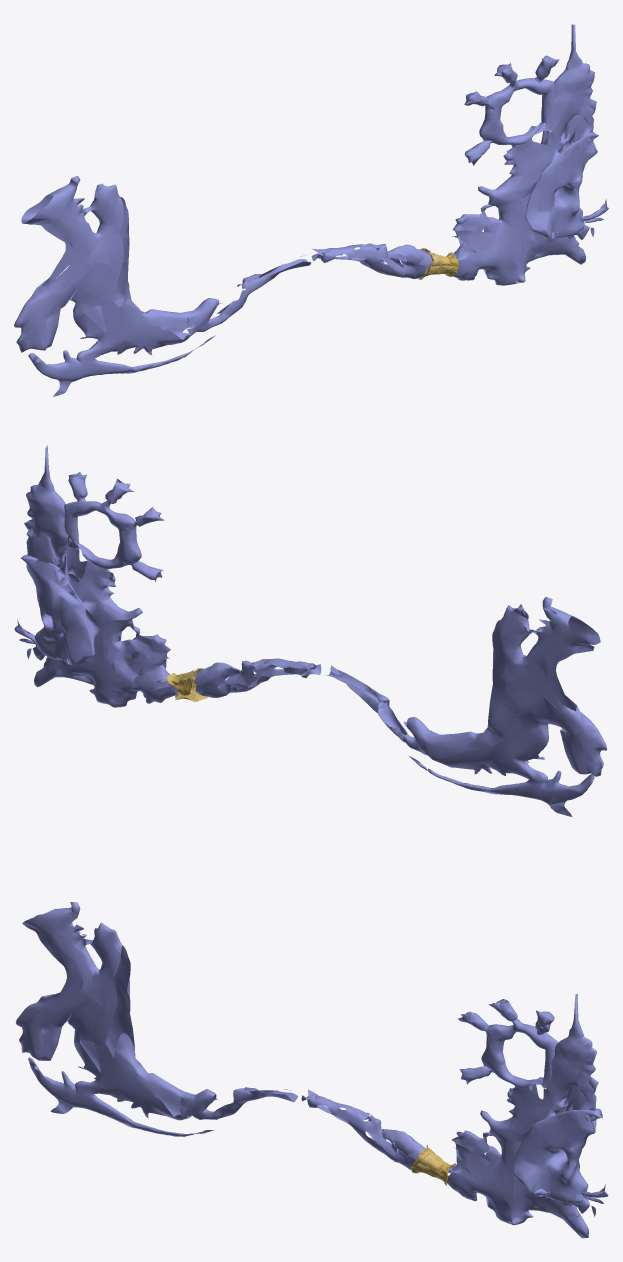
The model's file is overlayBottom-C9Z4NtbS.glb.
3 renders of one model, top to bottom at view 1: azimuth 30°, elevation 25°; view 2: azimuth 150°, elevation 25°; view 3: azimuth 330°, elevation 25°, orthographic.
Visible parts, largest first — view 1: Cube.002; view 2: Cube.002; view 3: Cube.002.
Part boxes in pixels (<box>): Cube.002: <box>14,24,608,396</box>; Cube.002: <box>14,445,607,816</box>; Cube.002: <box>15,902,608,1238</box>.
Size of the model in its own units: 3.49 by 1.39 by 0.271.
2 materials, 1 textured.
